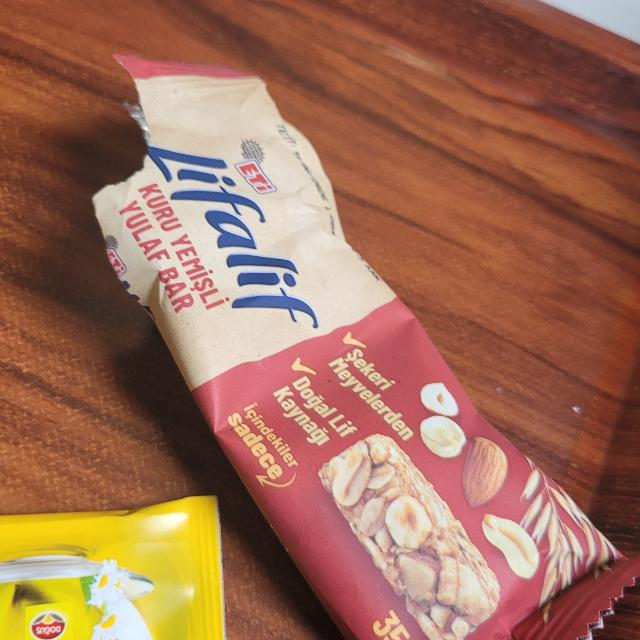Plastik: (95, 46, 640, 640), (0, 495, 225, 640)
